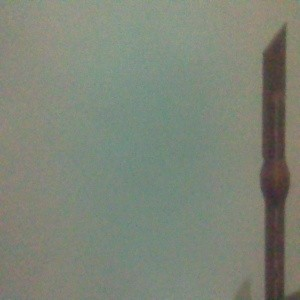cutter: (258, 21, 292, 300)
